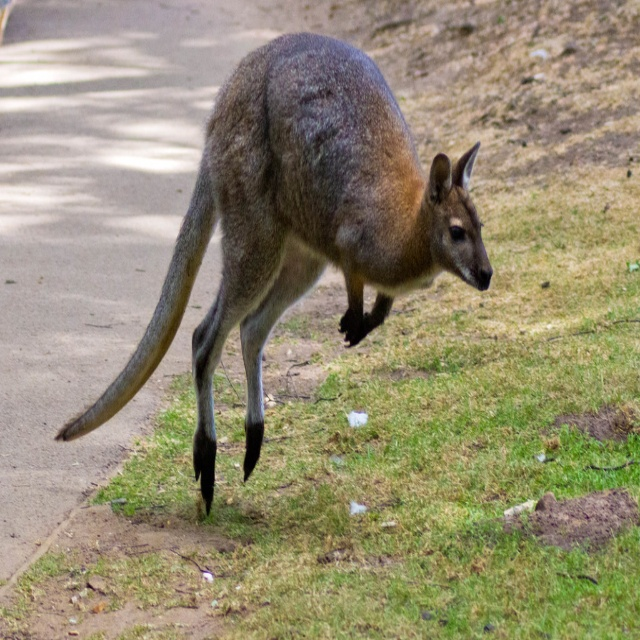Kangaroo: (54, 33, 494, 517)
